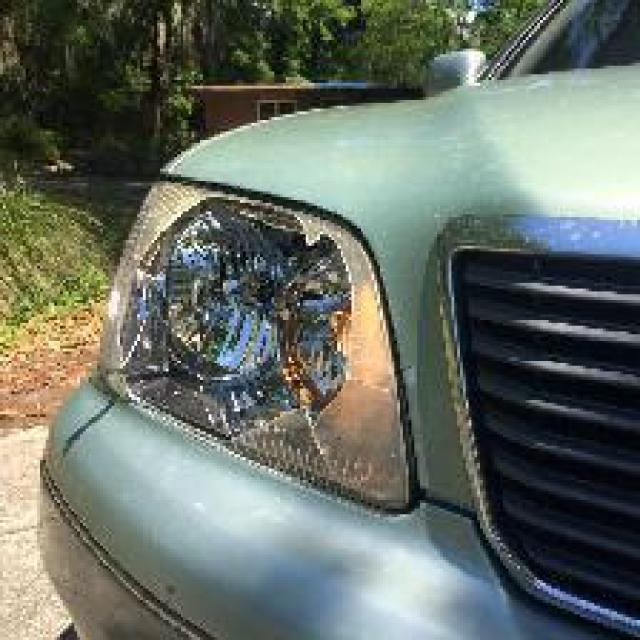damaged: (111, 194, 372, 466)
